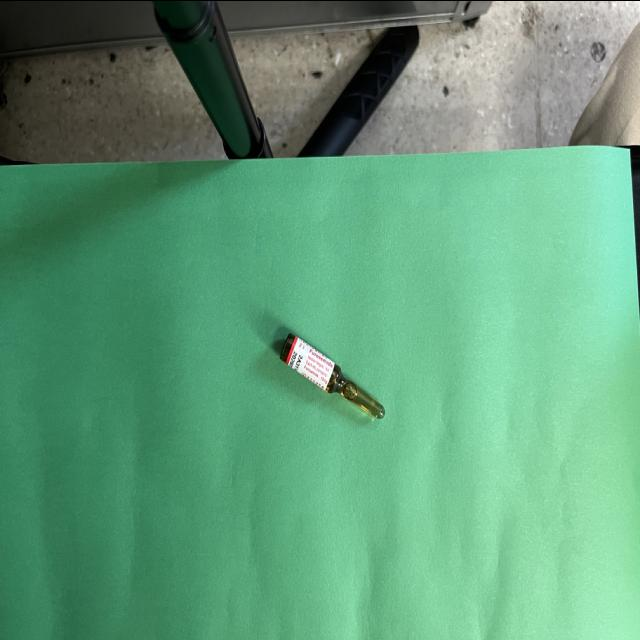Ampoules: (282, 333, 384, 417)
